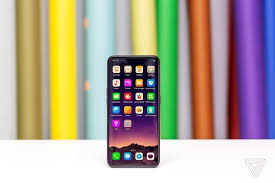oppo: (102, 52, 162, 173)
